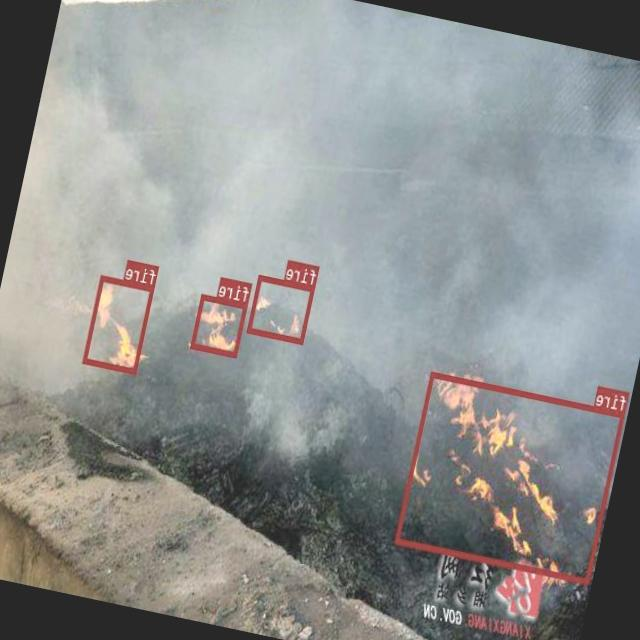fire: (396, 371, 626, 583), (82, 274, 156, 374), (247, 274, 316, 343), (191, 293, 248, 357)
